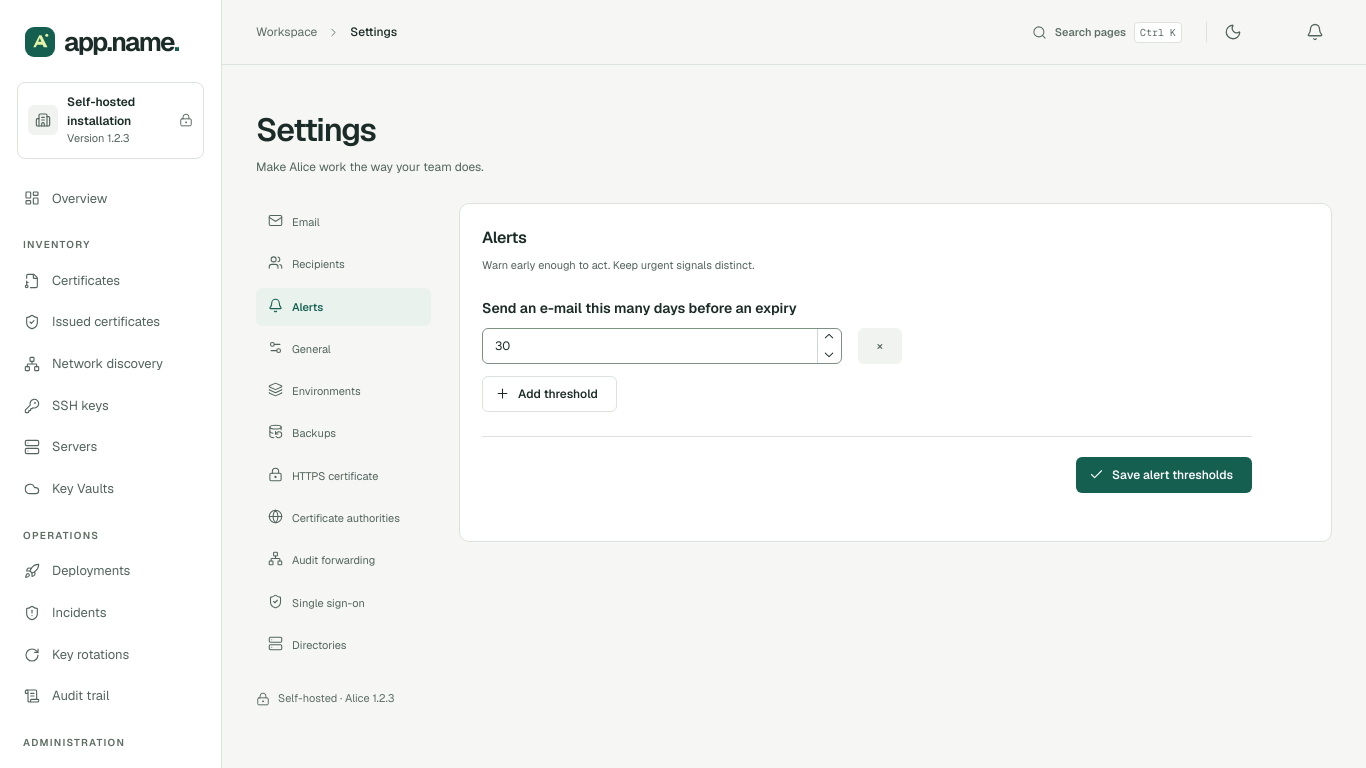
Scenario: AlertSettings › does not save while a threshold row is empty
Click the button "Add threshold" at x=549, y=394, box [482,376,617,412]
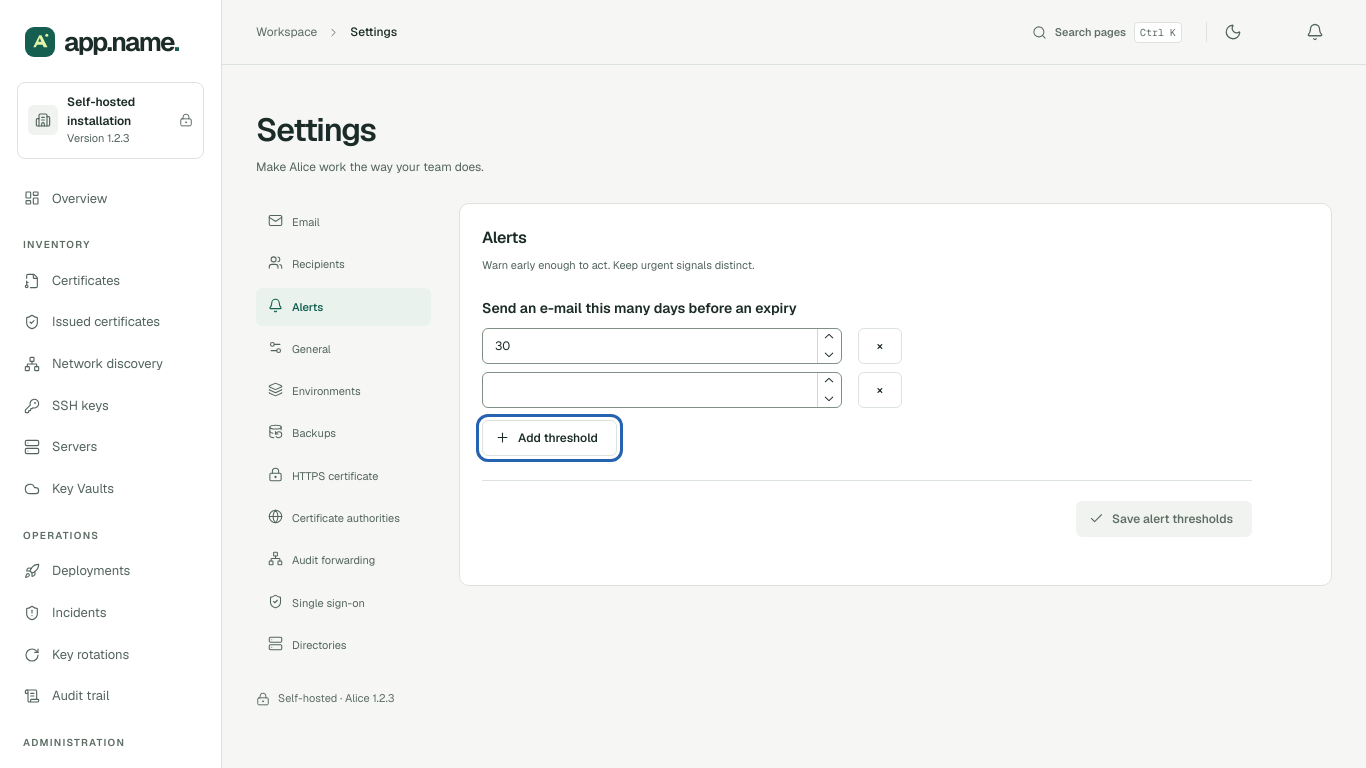
Expected: the button "Save alert thresholds" is disabled, [1076,501,1252,537]
Type "7" into the field named "Threshold 2 (days)" at x=662, y=390, box [482,372,842,408]
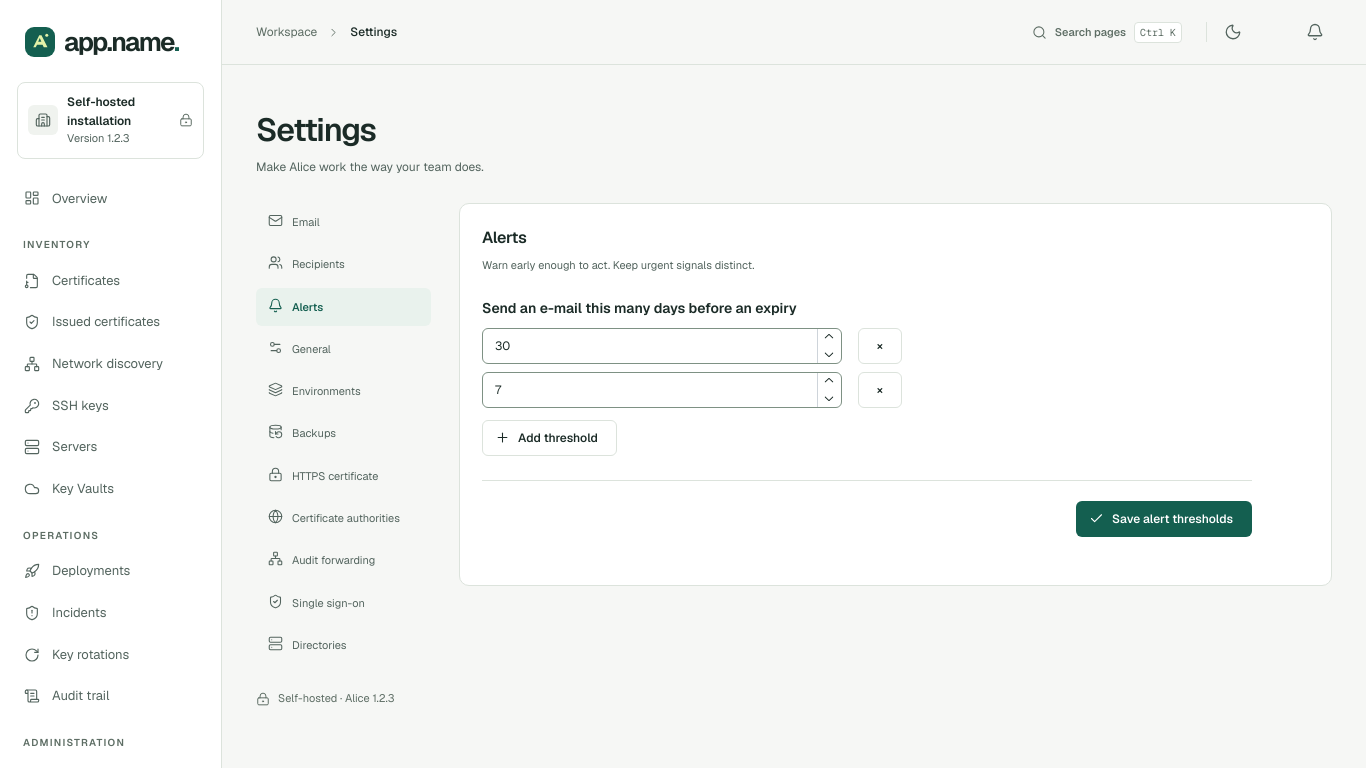
Expected: the button "Save alert thresholds" is enabled, [1076,501,1252,537]
